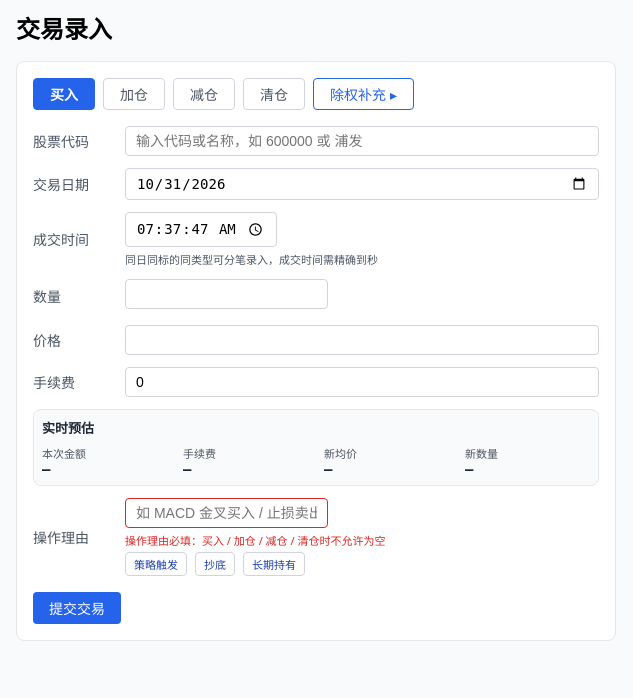
Test case: T68 ① · 交易类型 Tab 组与字段联动 › 切到「减仓」→ 数量栏显示当前持仓（字段联动）
Type "sh600000" into the field labelled "股票代码" at point(362, 141), box left=125, top=126, right=599, bottom=156
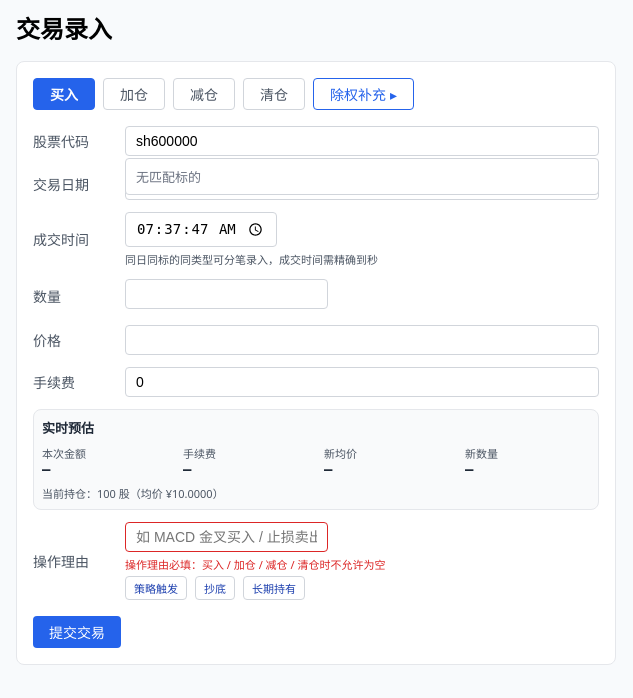
expect the text "当前持仓：100 股（均价 ¥10.0000）" is shown: met, box left=42, top=486, right=224, bottom=501
Click the tab "减仓" at point(204, 94), box left=173, top=78, right=235, bottom=110
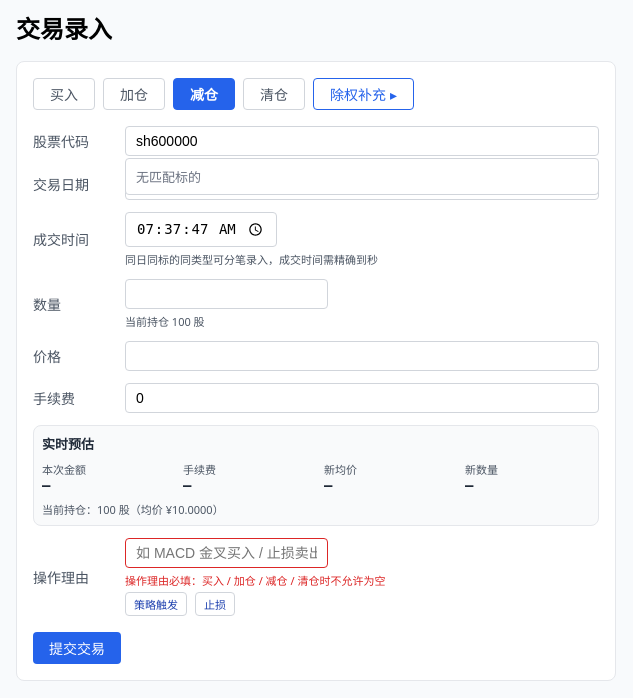
expect the text with test id "trade-quantity-hint" reads "当前持仓 100 股": met, box left=125, top=314, right=205, bottom=329
